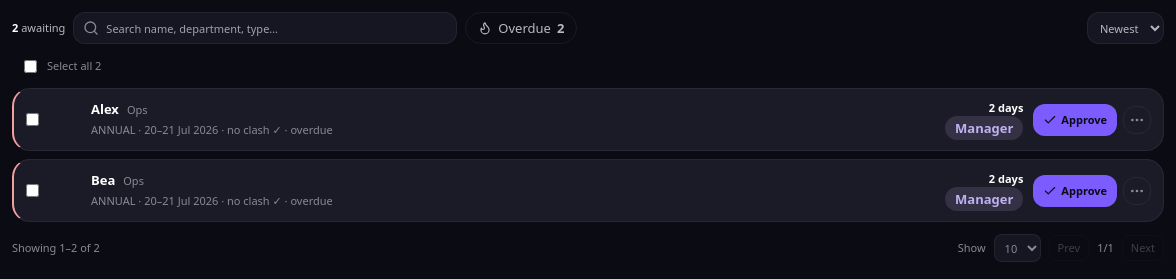
it: ApprovalWorkspace › filters by search
The image size is (1176, 279).
In the field named "Search approvals": (265, 28) left=73, top=12, right=457, bottom=44, type "alex"
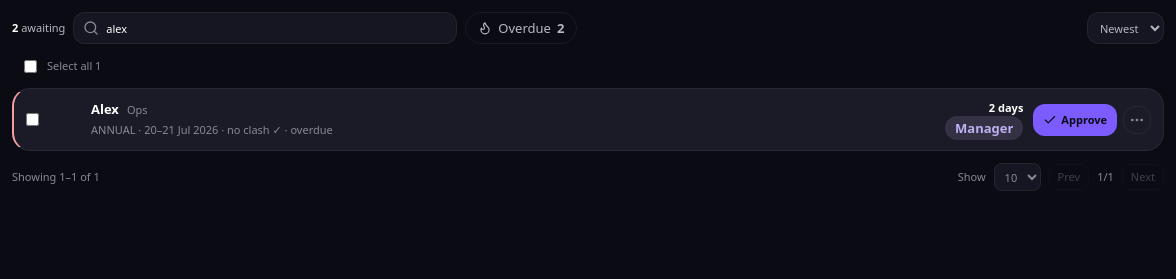
Expected: the text "Alex" is shown, left=91, top=99, right=119, bottom=119
Now the button "Bea" is gone
